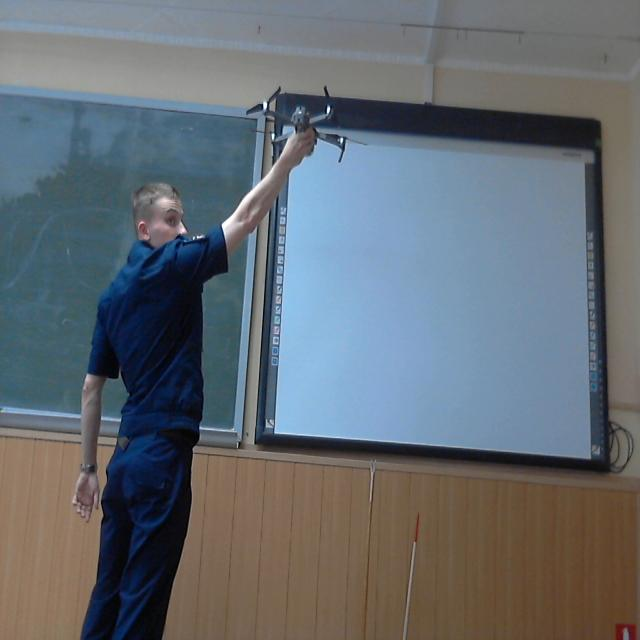drone: (243, 71, 358, 173)
